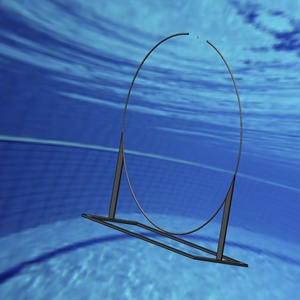circle: (82, 30, 247, 265)
